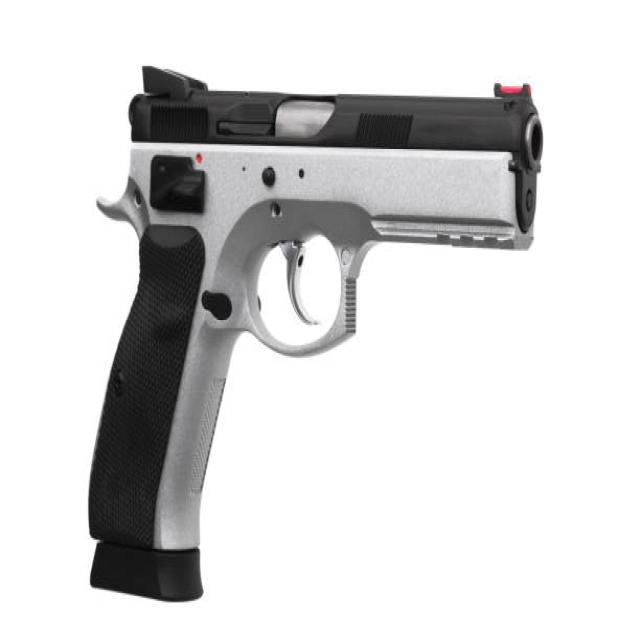pistol: (79, 45, 546, 610)
